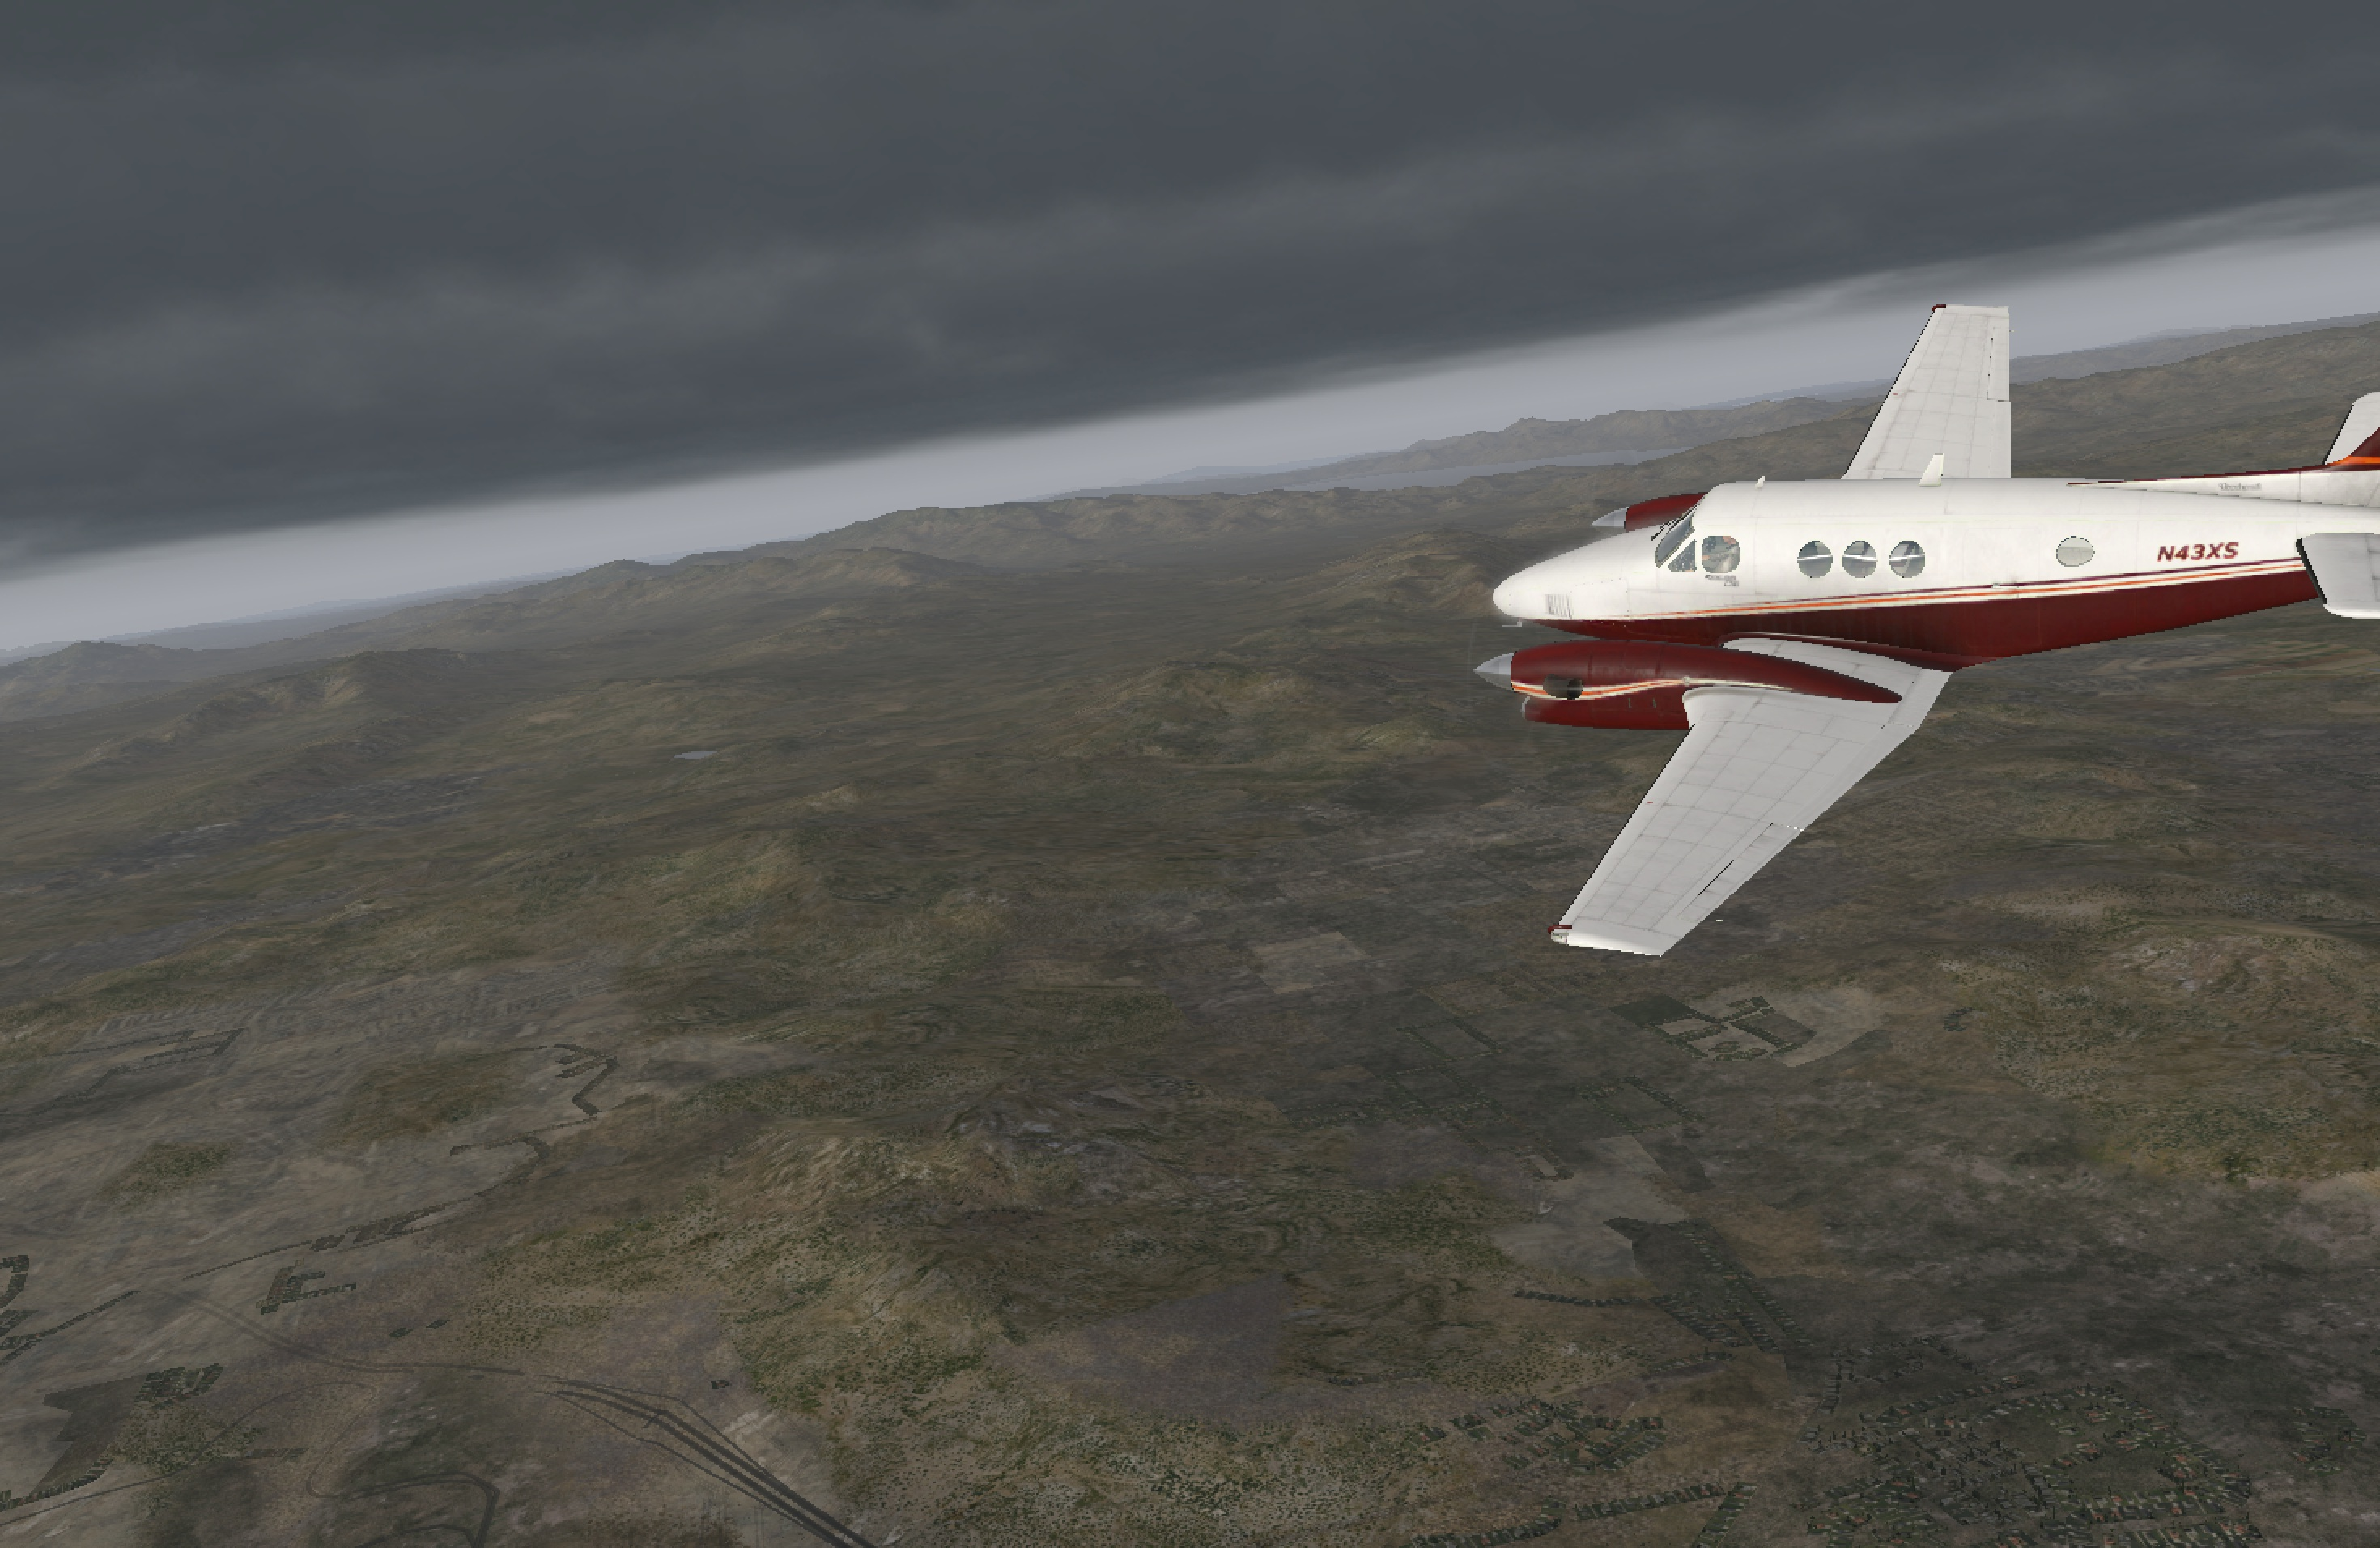aircraft: (1107, 368, 2380, 887)
